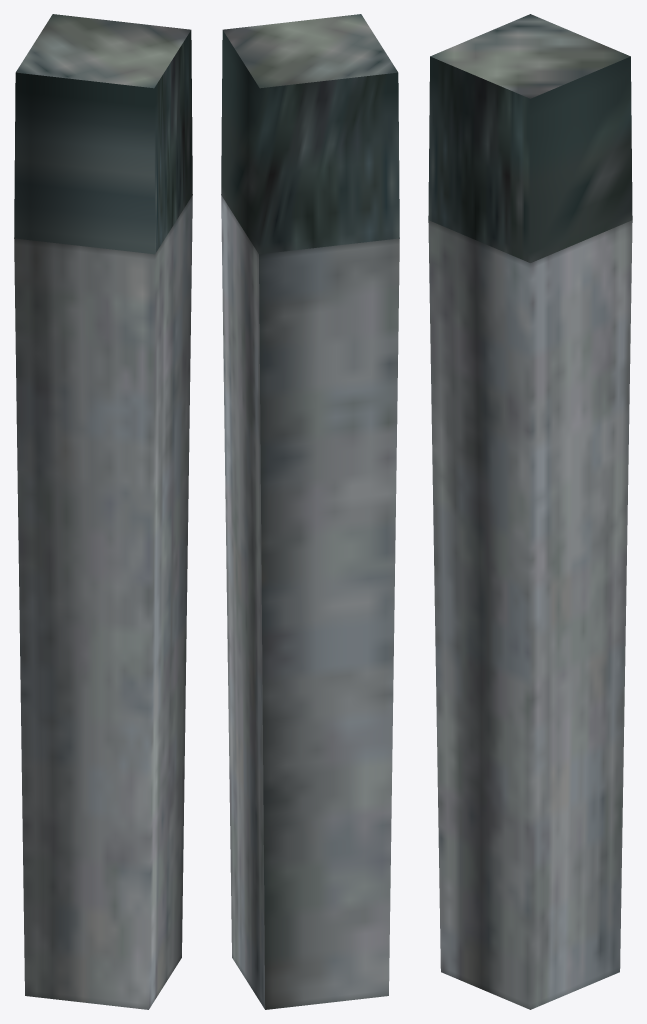
File: bunker_mine_support_piston_s01_l2.fbx
3 views of the same model, side by side, from view 1: azimuth 30°, elevation 25°; view 2: azimuth 150°, elevation 25°; view 3: azimuth 270°, elevation 25° (orthographic).
Visible parts, largest first — view 1: mesh_node; view 2: mesh_node; view 3: mesh_node.
Part boxes in pixels (box(x1,y1,x2,y2)): mesh_node: box(14, 14, 192, 1009); mesh_node: box(221, 14, 399, 1009); mesh_node: box(428, 14, 632, 1009).
Bounding box in the file's own units: 0.4835 × 2.39 × 0.4835.
